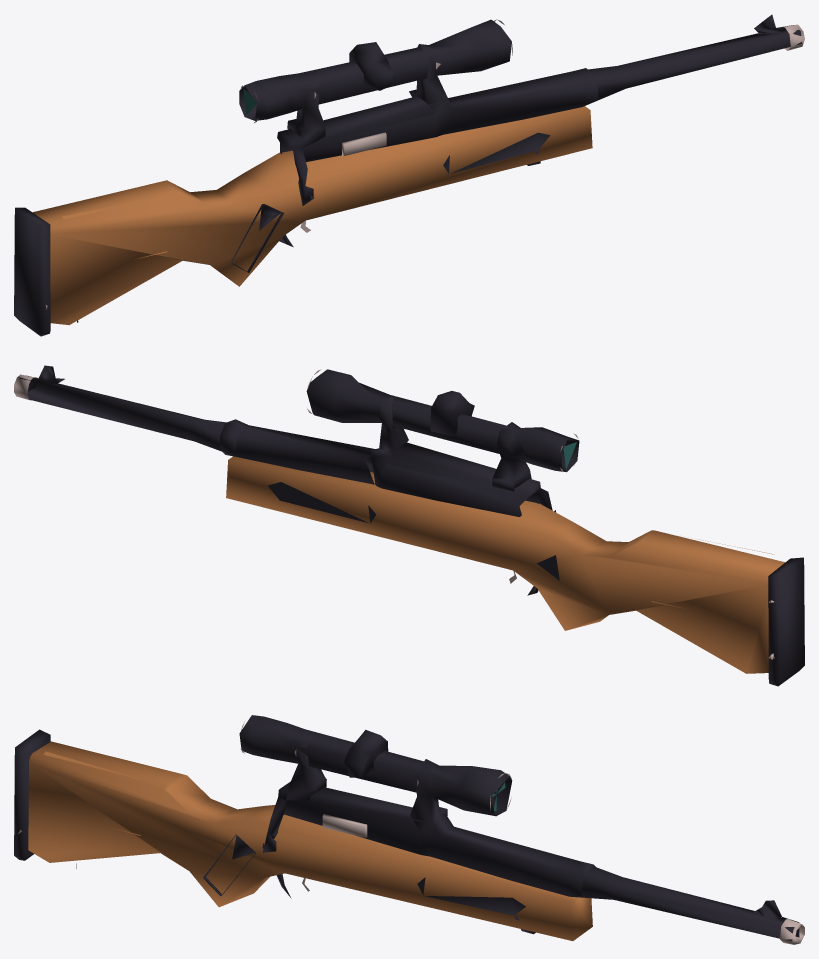
3 views of the same model, one above another, from view 1: azimuth 30°, elevation 25°; view 2: azimuth 150°, elevation 25°; view 3: azimuth 330°, elevation 25° (orthographic).
Bounding box in the file's own units: 1.31 × 0.333 × 0.114.
